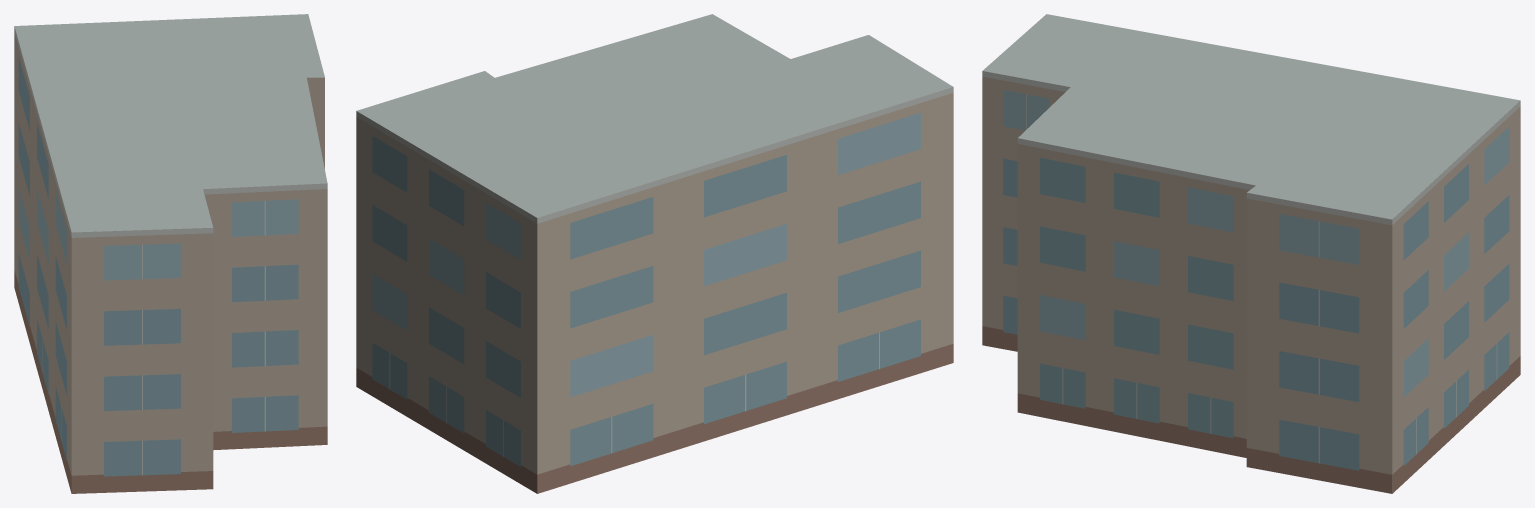
The model's file is survey-upis-32530144.glb.
The picture shows the model from 3 angles, left to right: view 1: azimuth 30°, elevation 25°; view 2: azimuth 150°, elevation 25°; view 3: azimuth 270°, elevation 25°; orthographic projection. The views are drawn at different scales.
Visible parts, largest first — view 1: survey-upis-32530144.tmp; view 2: survey-upis-32530144.tmp; view 3: survey-upis-32530144.tmp.
Part boxes in pixels (x1,y1,x2,y2): survey-upis-32530144.tmp: [14, 14, 327, 493]; survey-upis-32530144.tmp: [356, 14, 953, 493]; survey-upis-32530144.tmp: [982, 14, 1520, 493].
Bounding box in the file's own units: 18.81 × 11.7 × 20.82.
